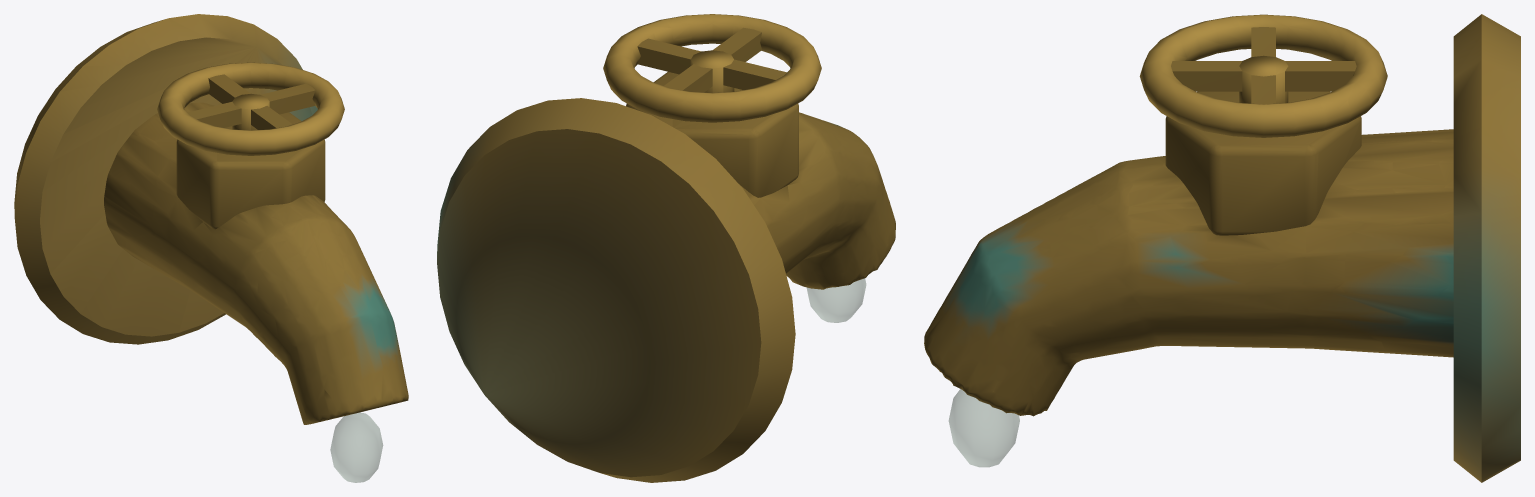
File: mire_spigot.glb
3 views of the same model, side by side, from view 1: azimuth 30°, elevation 25°; view 2: azimuth 150°, elevation 25°; view 3: azimuth 270°, elevation 25° (orthographic). The views are drawn at different scales.
Parts seen in each view (by area): view 1: mire_spigot; view 2: mire_spigot; view 3: mire_spigot.
Part boxes in pixels (x1,y1,x2,y2): mire_spigot: [14, 14, 408, 482]; mire_spigot: [437, 14, 895, 482]; mire_spigot: [924, 14, 1520, 482].
Bounding box in the file's own units: 4.2 × 4.25 × 5.34.
